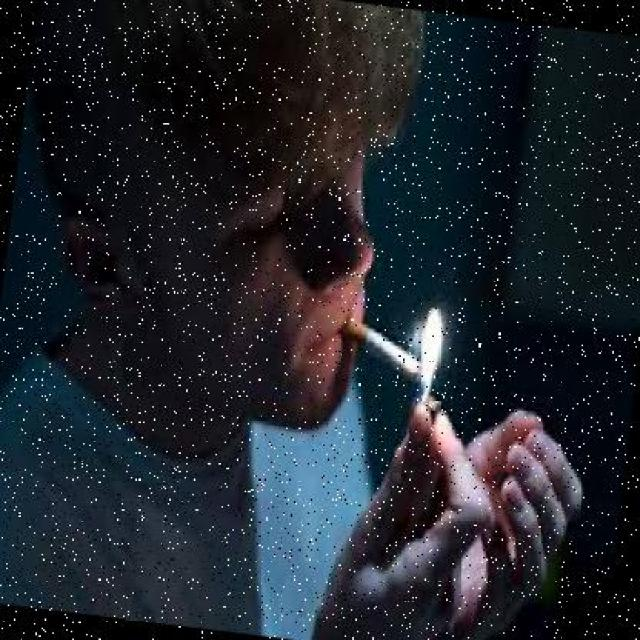fire: (402, 295, 446, 397)
